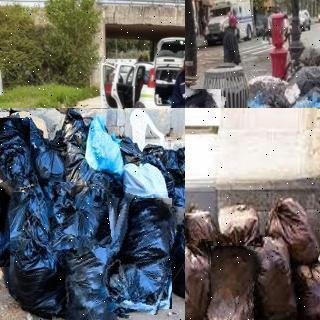Garbage: (103, 195, 179, 312), (4, 199, 76, 320), (52, 228, 138, 320), (46, 180, 114, 249), (248, 235, 298, 320), (205, 244, 259, 320), (264, 194, 320, 263), (120, 159, 178, 213), (83, 112, 129, 177), (0, 115, 34, 194), (216, 198, 264, 251), (185, 240, 215, 320), (29, 143, 68, 197), (291, 256, 320, 320), (185, 204, 218, 256), (169, 212, 185, 309), (0, 176, 16, 270), (166, 165, 185, 218), (185, 85, 223, 108)
